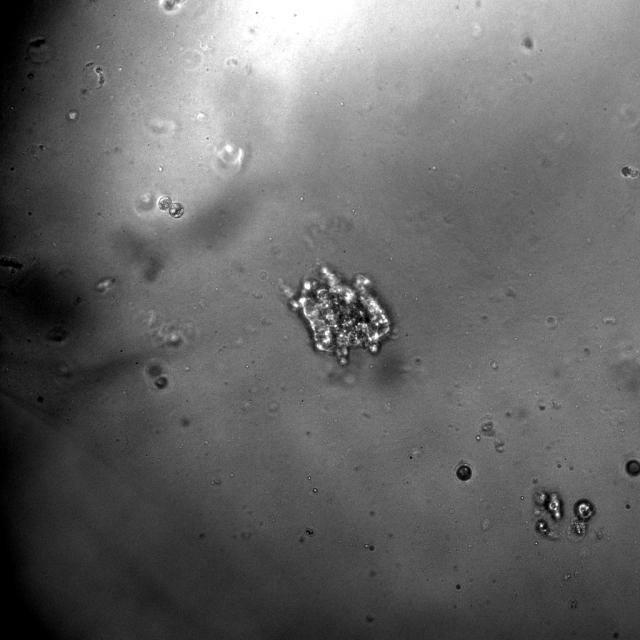organoid: (289, 266, 391, 365), (571, 498, 595, 537), (534, 490, 563, 521), (146, 362, 168, 389), (158, 195, 184, 217), (455, 462, 472, 481), (625, 458, 639, 477), (534, 518, 548, 535), (621, 166, 639, 177)
